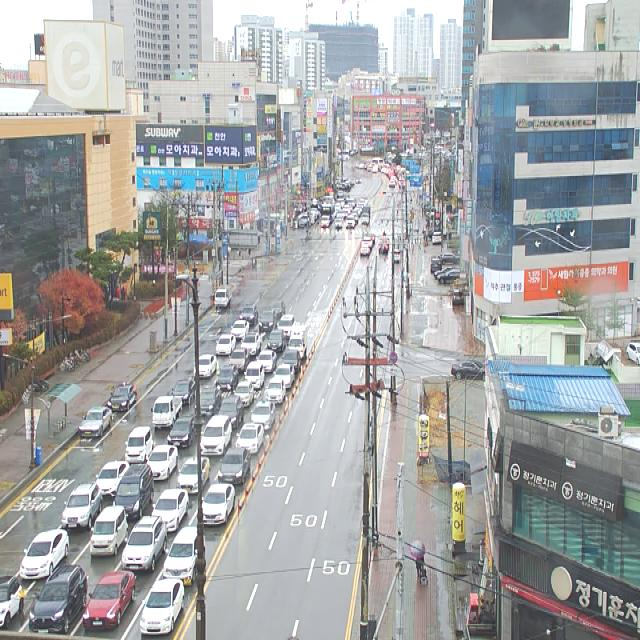Bus: (320, 204, 334, 222)
Car: (29, 564, 88, 634), (82, 570, 136, 632), (140, 578, 184, 636), (163, 527, 206, 585), (122, 516, 167, 571), (20, 530, 69, 578), (113, 464, 154, 518), (61, 482, 103, 529), (90, 505, 128, 556), (152, 489, 188, 532), (202, 484, 235, 526), (0, 576, 24, 629), (176, 457, 210, 494), (201, 416, 232, 456), (96, 461, 130, 497), (218, 448, 251, 485), (79, 405, 112, 438), (147, 446, 178, 480), (125, 426, 152, 463), (106, 381, 137, 412), (236, 424, 264, 455), (218, 395, 244, 428), (167, 417, 194, 448), (195, 388, 221, 418), (251, 400, 275, 431), (216, 365, 239, 392), (273, 362, 295, 390), (451, 362, 485, 379), (244, 362, 264, 390), (172, 380, 195, 404), (194, 354, 216, 378), (229, 349, 250, 374), (233, 382, 254, 407), (266, 378, 286, 404), (240, 333, 261, 357), (267, 328, 286, 353), (277, 314, 296, 338), (216, 335, 236, 357), (256, 351, 276, 373), (259, 309, 277, 332), (282, 350, 302, 370), (240, 304, 258, 326), (231, 320, 249, 340), (437, 269, 460, 284), (627, 343, 640, 364), (269, 301, 285, 318), (434, 267, 456, 279), (439, 252, 460, 264), (453, 290, 464, 306), (431, 259, 442, 273), (432, 232, 442, 245), (391, 250, 400, 264), (364, 233, 375, 244), (378, 242, 388, 254), (380, 238, 390, 250), (362, 238, 372, 250), (346, 216, 355, 229), (320, 216, 330, 227), (360, 246, 370, 256), (335, 219, 343, 229)
Truck: (151, 396, 182, 428), (287, 325, 308, 360), (215, 285, 232, 308), (361, 206, 371, 224)
